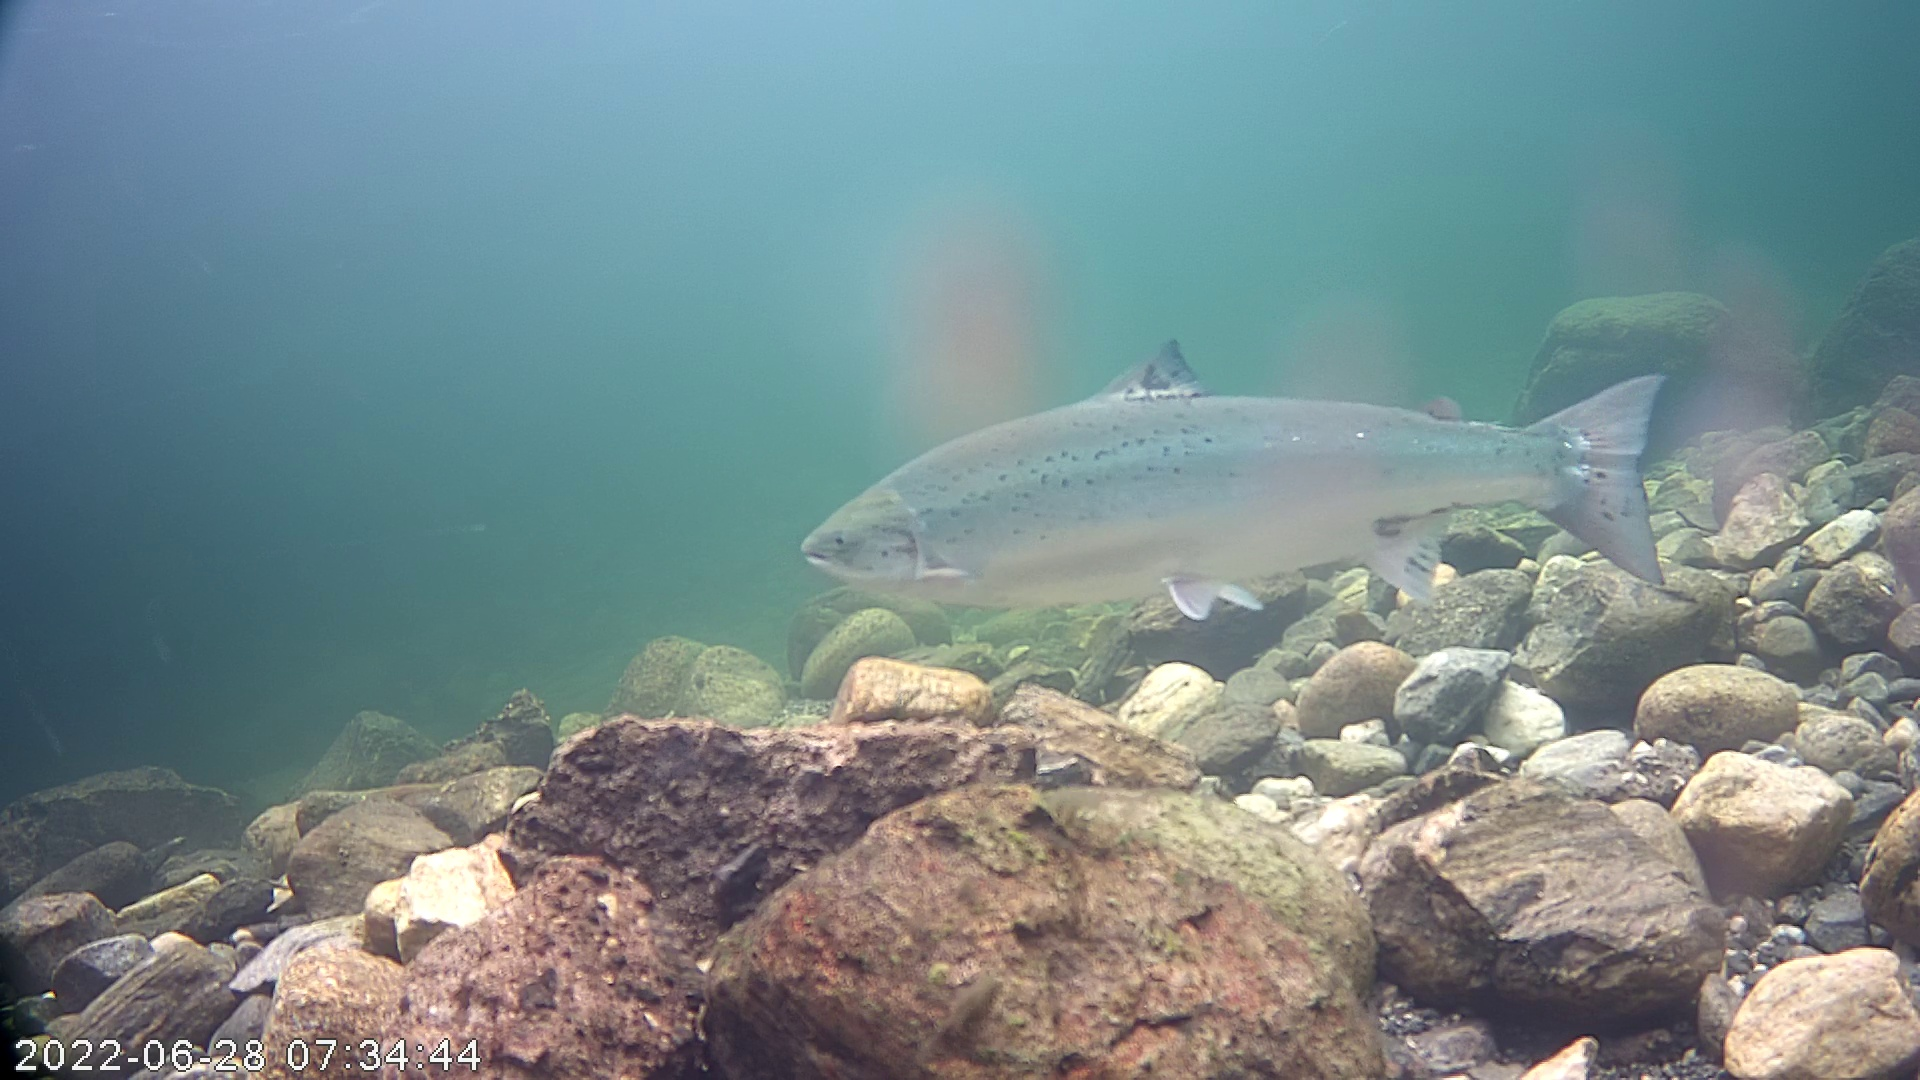salmon: (789, 251, 1698, 680)
